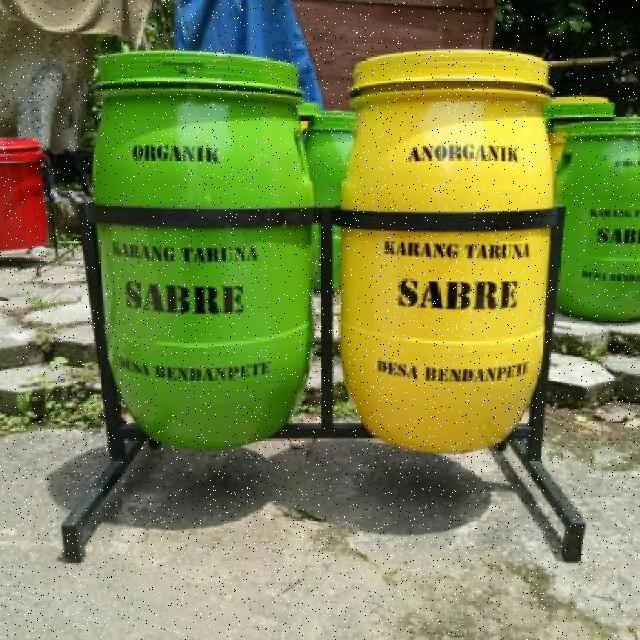garbage container: (338, 28, 571, 482), (77, 45, 317, 470)
